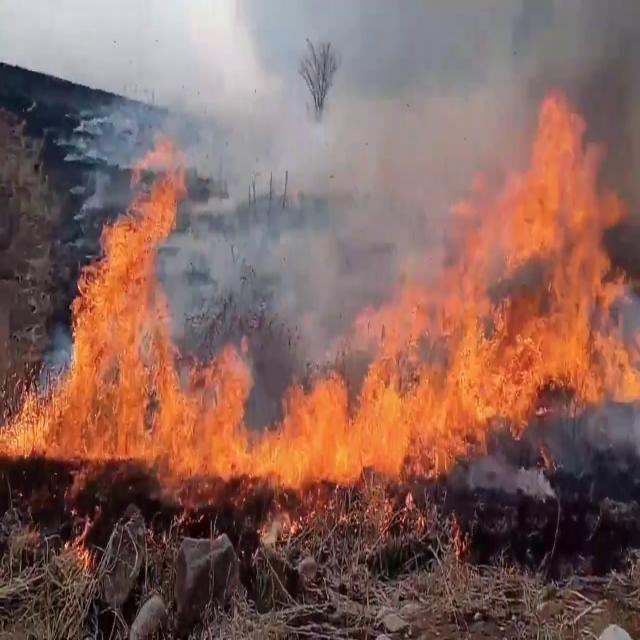Fire: (2, 144, 640, 534)
Smoke: (134, 0, 578, 300)
